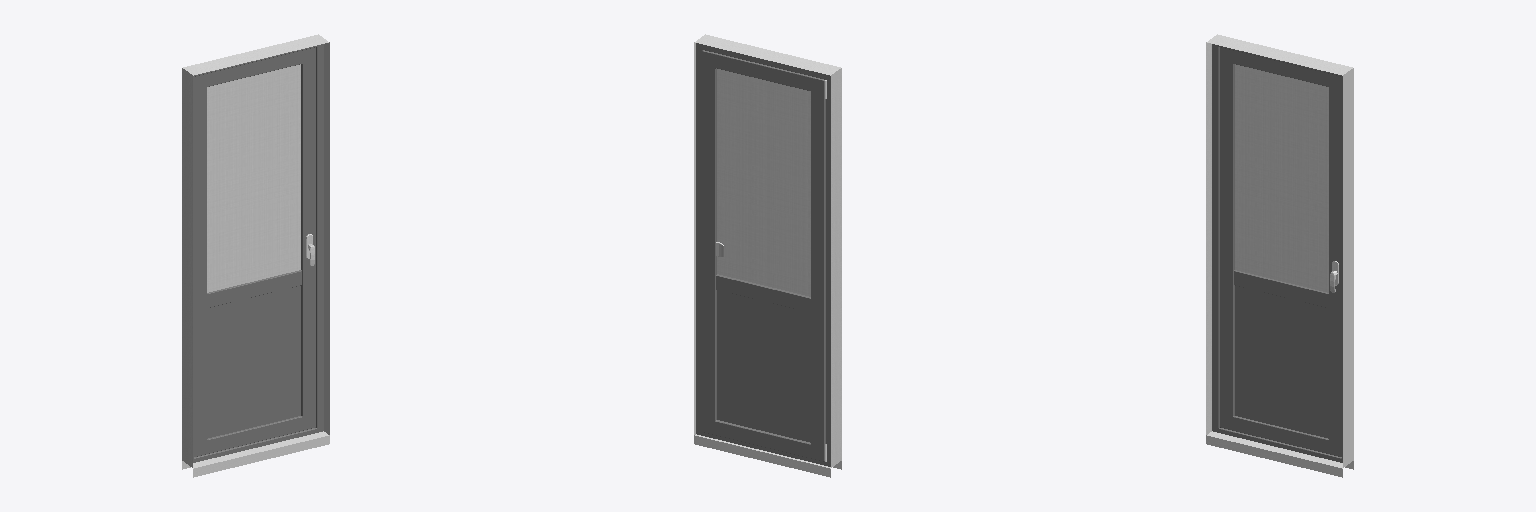
3 views of the same model, side by side, from view 1: azimuth 30°, elevation 25°; view 2: azimuth 150°, elevation 25°; view 3: azimuth 330°, elevation 25° (orthographic).
Bounding box in the file's own units: 0.8 × 2.25 × 0.111.
Materials: 4 (1 with a texture image).